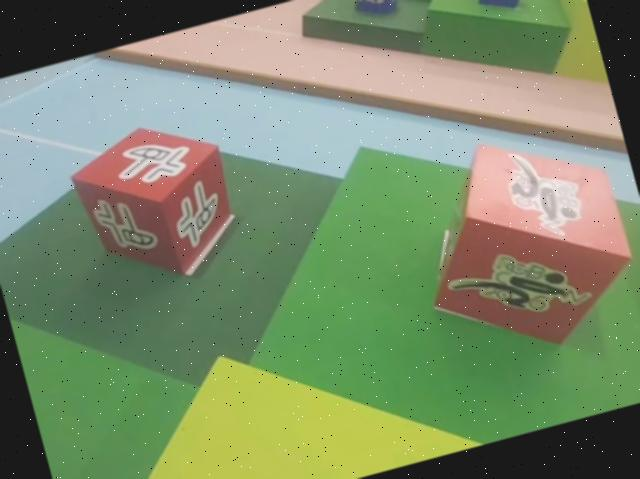R1: (391, 109, 640, 376)
R2 Real: (59, 103, 253, 302)
